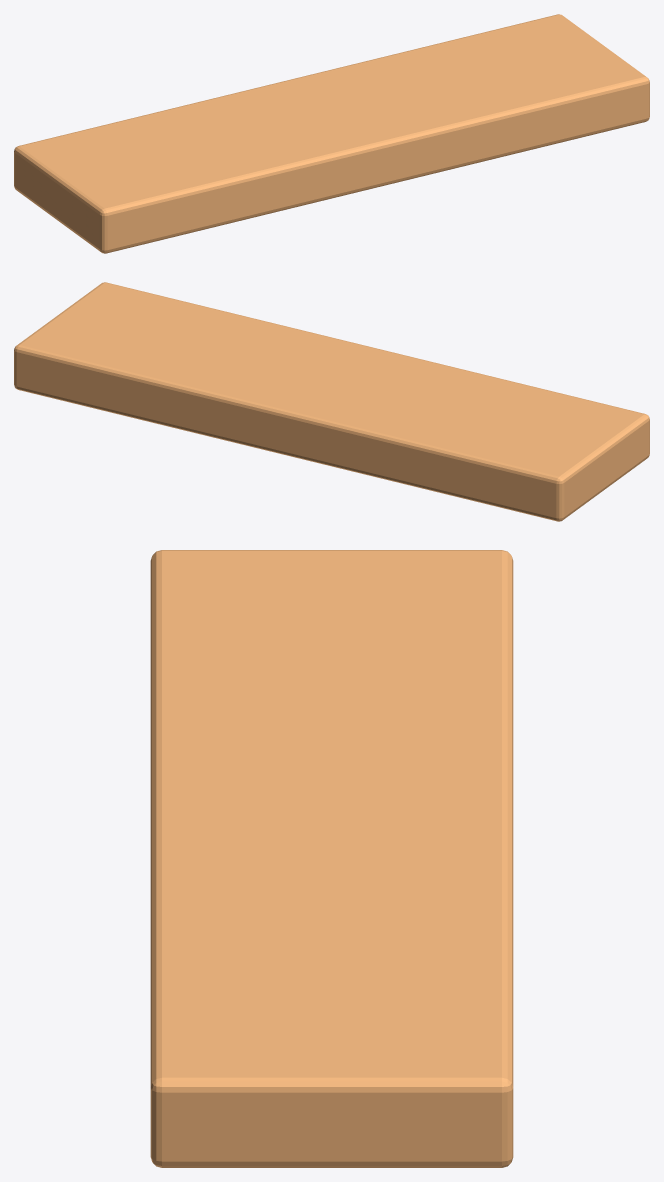
File: Shelf_17.fbx
3 views of the same model, one above another, from view 1: azimuth 30°, elevation 25°; view 2: azimuth 150°, elevation 25°; view 3: azimuth 270°, elevation 25° (orthographic). The views are drawn at different scales.
Visible parts, largest first — view 1: Shelf_17; view 2: Shelf_17; view 3: Shelf_17.
Part boxes in pixels (<box>): Shelf_17: <box>14,14,649,253</box>; Shelf_17: <box>14,282,649,521</box>; Shelf_17: <box>150,550,513,1167</box>.
Bounding box in the file's own units: 0.8187 × 0.0635 × 0.2341.
